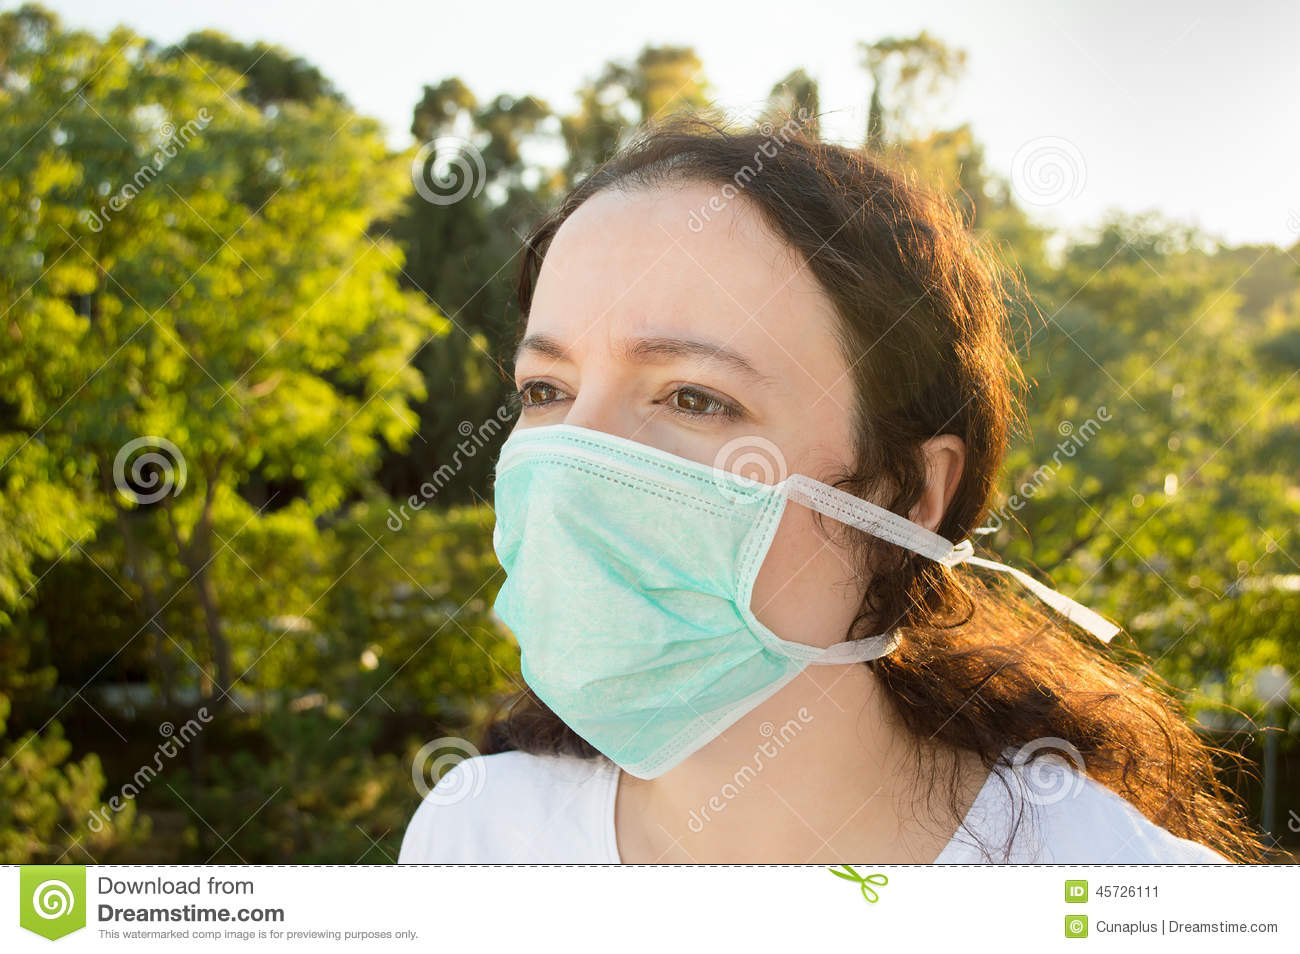mask: (492, 423, 811, 782)
